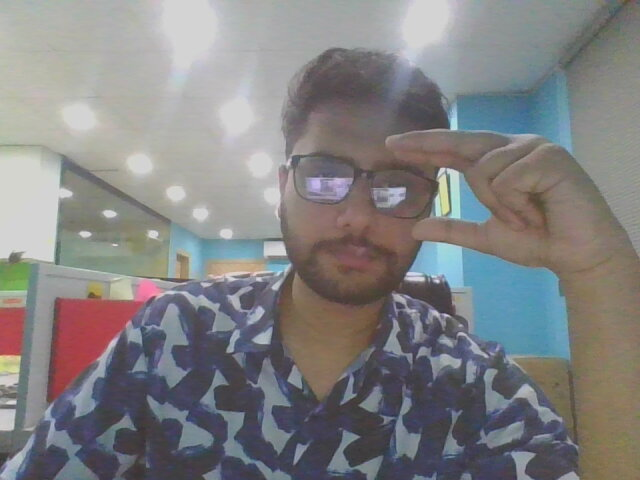no: (379, 118, 640, 307)
